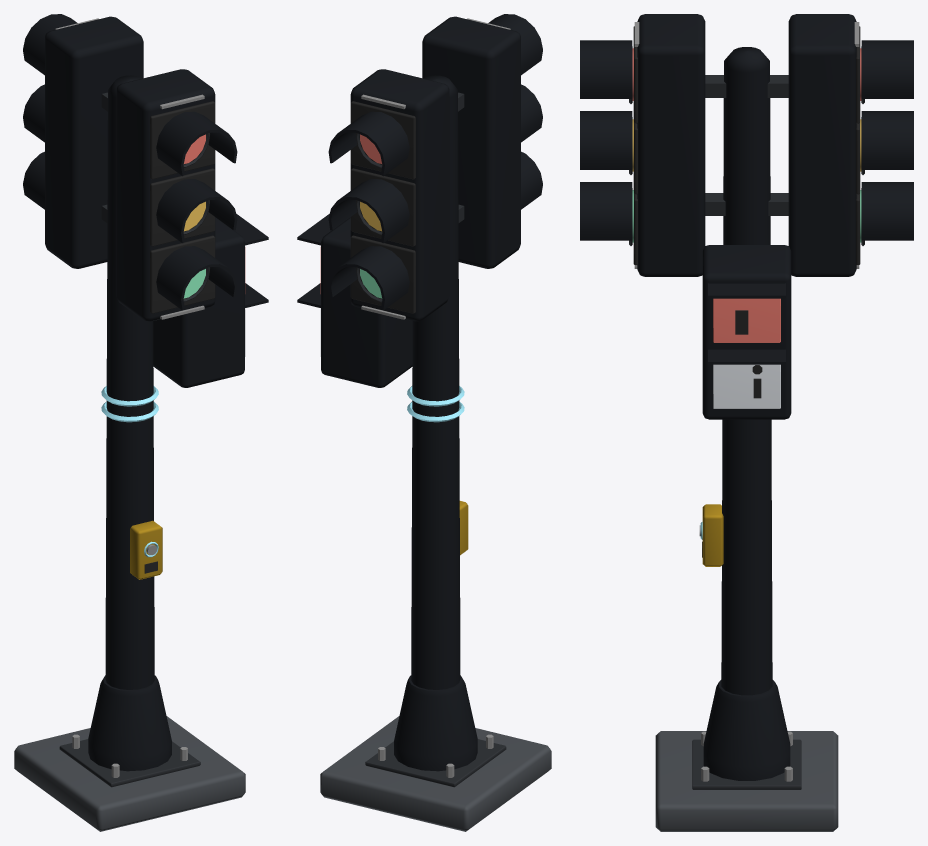
Rendered from Traffic_Light_Pole_Small.fbx.
3 views of the same model, side by side, from view 1: azimuth 30°, elevation 25°; view 2: azimuth 150°, elevation 25°; view 3: azimuth 270°, elevation 25° (orthographic). The views are drawn at different scales.
Visible parts, largest first — view 1: Traffic_Light_Pole_Small_LOD0; view 2: Traffic_Light_Pole_Small_LOD0; view 3: Traffic_Light_Pole_Small_LOD0.
Part boxes in pixels (<box>): Traffic_Light_Pole_Small_LOD0: <box>14,14,268,831</box>; Traffic_Light_Pole_Small_LOD0: <box>297,14,551,831</box>; Traffic_Light_Pole_Small_LOD0: <box>580,14,913,831</box>.
Size of what is drawn, in the model's own units: 0.91 by 3.24 by 1.28.
